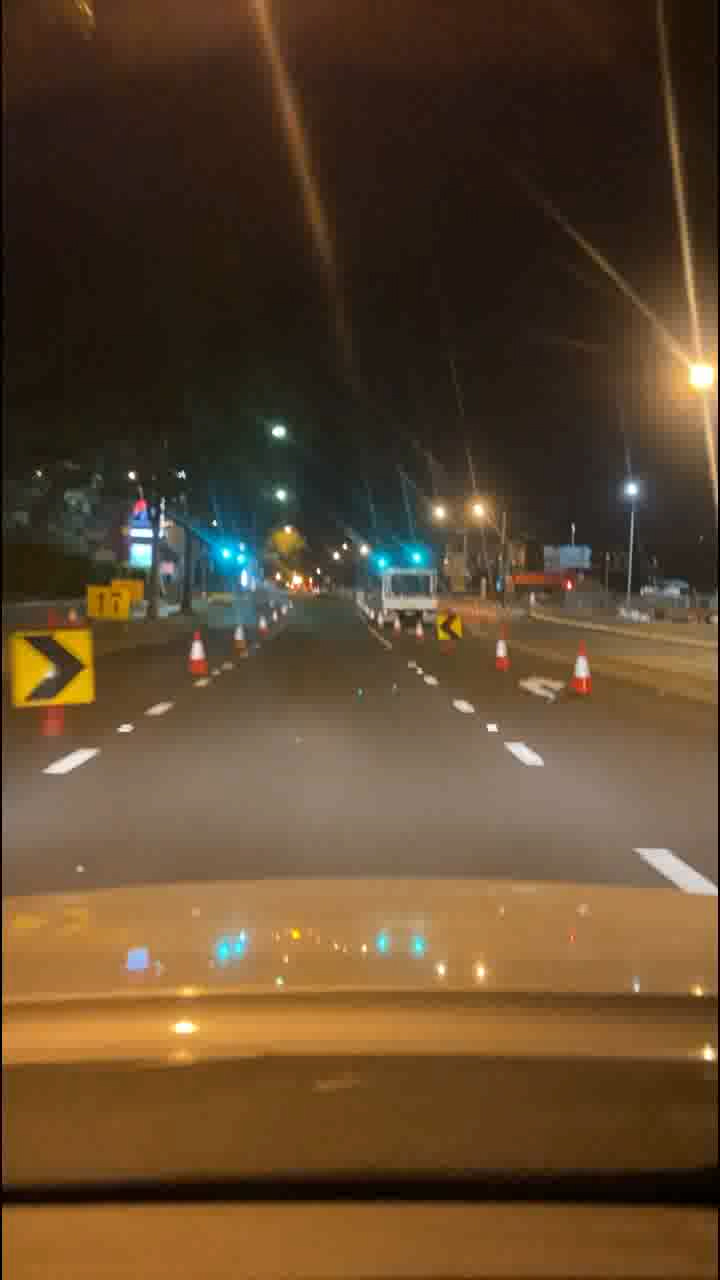road cone: (185, 627, 212, 679), (567, 635, 594, 687), (486, 622, 513, 674), (227, 606, 254, 658), (261, 599, 287, 634)
road works sign board: (6, 629, 91, 740), (81, 588, 133, 627)
truck: (368, 559, 435, 623)
